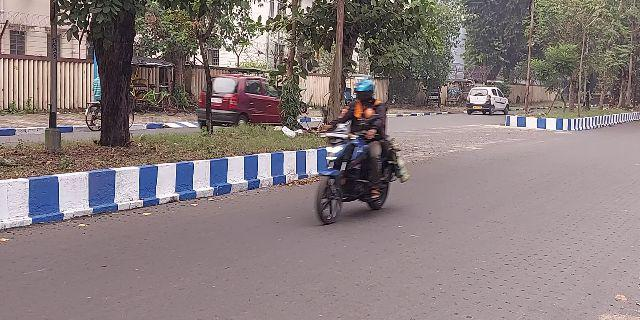Car: (198, 69, 294, 131), (466, 85, 518, 115)
Motorbike: (310, 78, 410, 224)
